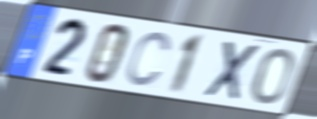0: (84, 22, 131, 85)
1: (170, 31, 209, 97)
2: (38, 16, 90, 81)
C: (124, 30, 173, 89)
O: (250, 46, 295, 106)
X: (201, 38, 262, 104)
